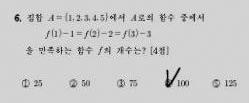choice: (163, 71, 175, 88)
not-choice: (19, 77, 31, 88), (68, 78, 78, 89), (116, 78, 126, 88), (211, 78, 221, 88)
